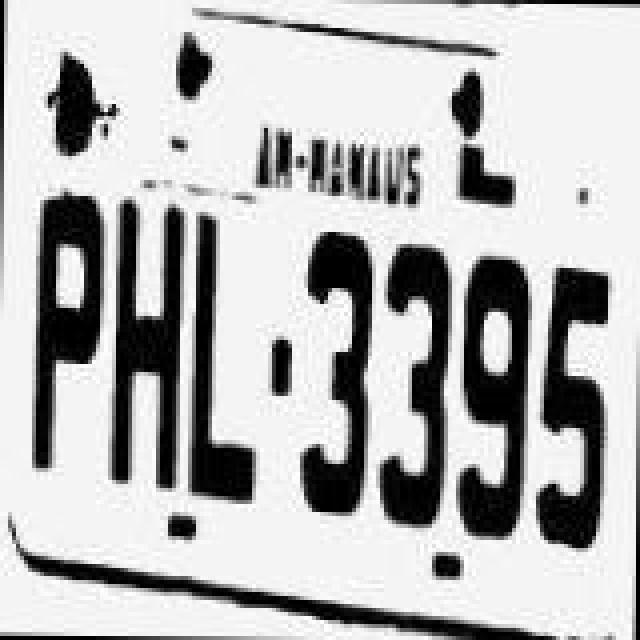3: (296, 222, 376, 522), (374, 242, 454, 530)
5: (532, 260, 624, 564)
9: (450, 254, 538, 546)
H: (106, 202, 190, 494)
L: (182, 210, 266, 506)
P: (20, 188, 108, 476)
